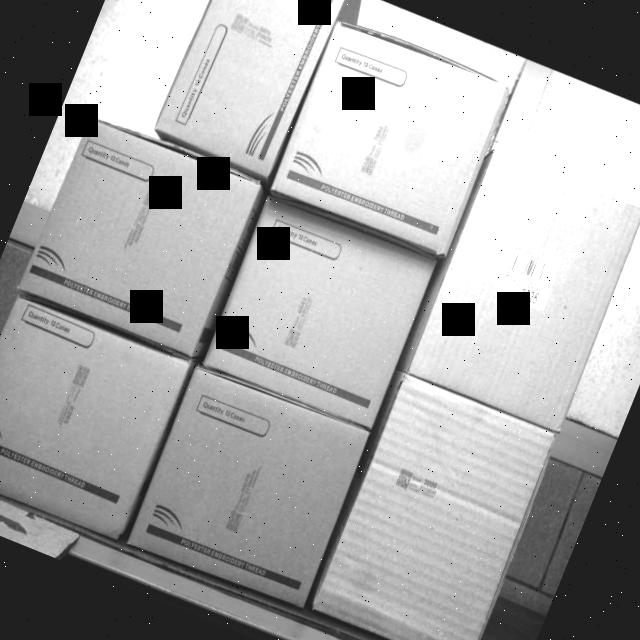box: (404, 144, 640, 434), (306, 374, 556, 640), (126, 360, 372, 614), (16, 112, 262, 360), (202, 188, 439, 426), (270, 20, 508, 255), (0, 296, 192, 541), (153, 0, 342, 173)
